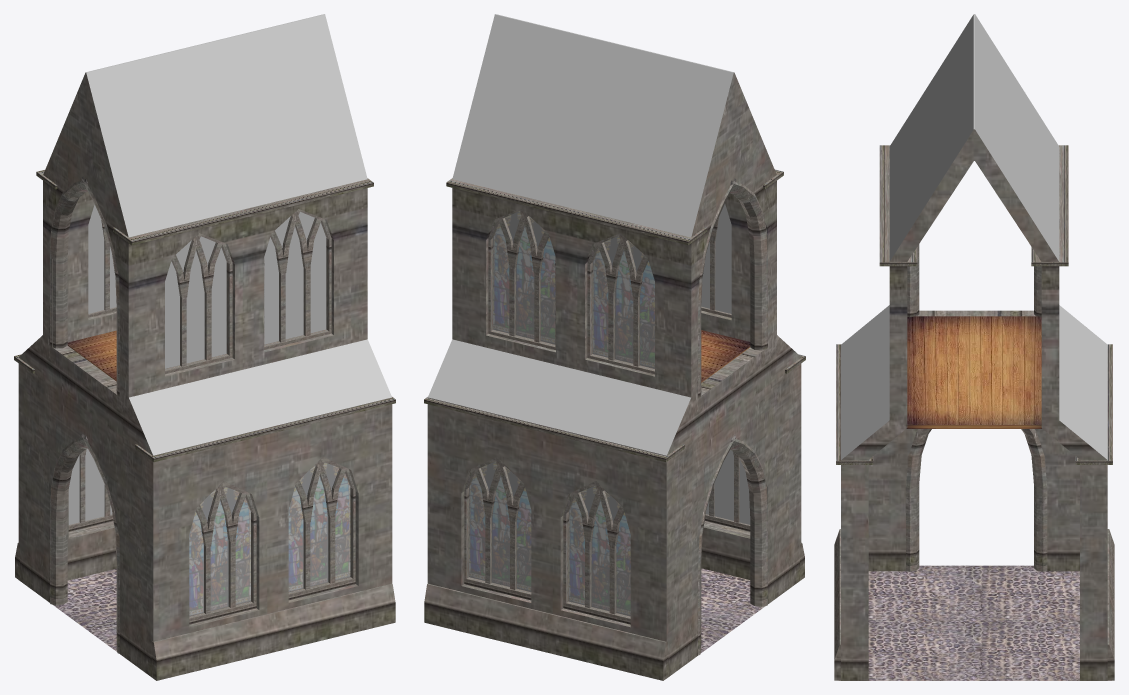
The model's file is ChurchSection.obj.
3 views of the same model, side by side, from view 1: azimuth 30°, elevation 25°; view 2: azimuth 150°, elevation 25°; view 3: azimuth 270°, elevation 25° (orthographic).
Parts seen in each view (by area): view 1: churchWall, roof, grill, stainglass, cobble, floor; view 2: churchWall, roof, grill, stainglass, cobble, floor; view 3: churchWall, roof, cobble, floor.
Part boxes in pixels (bbox=[...]): churchWall: bbox=[14, 72, 395, 680]; roof: bbox=[86, 14, 391, 455]; grill: bbox=[68, 205, 350, 615]; stainglass: bbox=[190, 463, 349, 615]; cobble: bbox=[53, 569, 116, 651]; floor: bbox=[67, 330, 116, 381]; churchWall: bbox=[424, 72, 805, 680]; roof: bbox=[428, 14, 733, 455]; grill: bbox=[469, 204, 750, 616]; stainglass: bbox=[469, 211, 654, 615]; cobble: bbox=[700, 568, 764, 653]; floor: bbox=[701, 330, 750, 382]; churchWall: bbox=[834, 129, 1114, 680]; roof: bbox=[841, 14, 1107, 459]; cobble: bbox=[839, 565, 1111, 680]; floor: bbox=[906, 316, 1041, 428].
Size of the model in its own units: 76.97 by 169 by 77.98.
